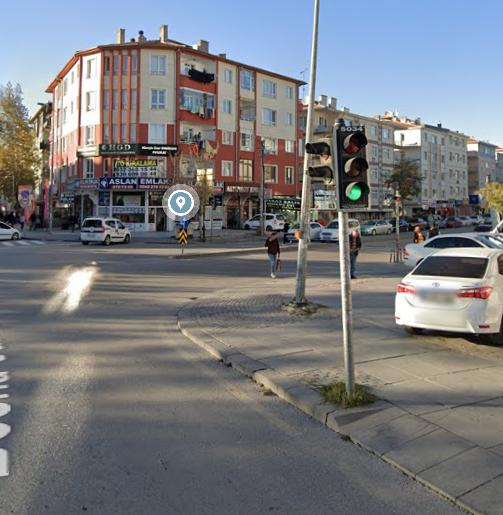greenlight: (337, 125, 370, 204)
